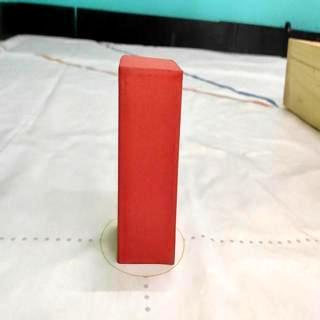redbox: (118, 54, 184, 265)
